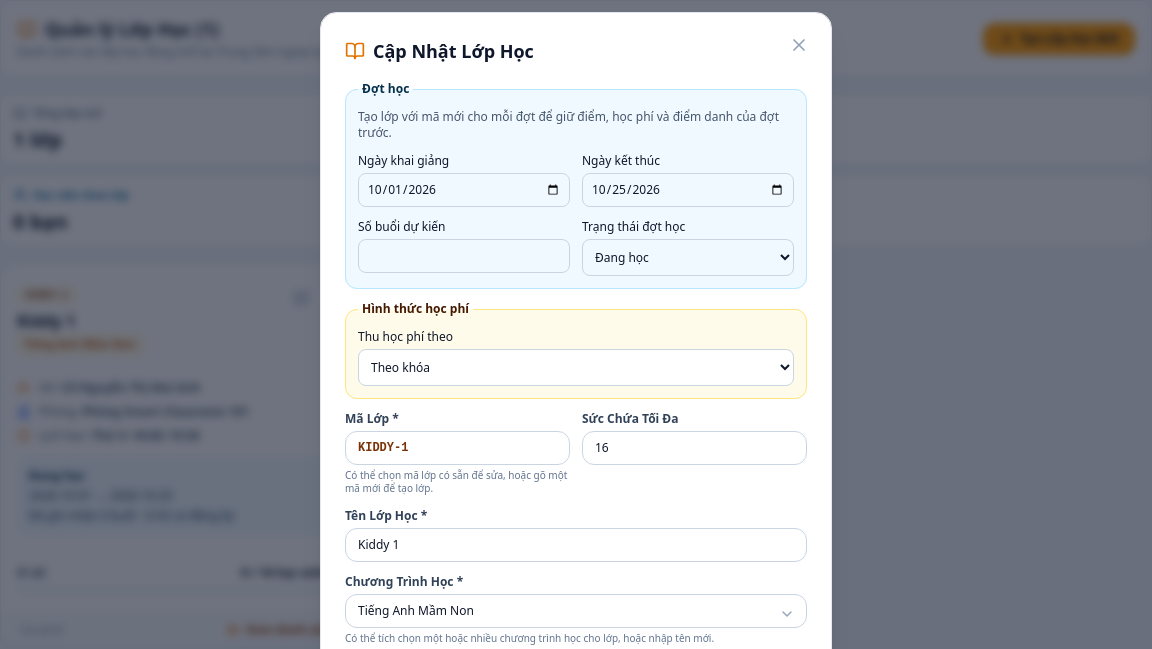
Test: rejects an invalid course period before changing class or recurring schedule
The image size is (1152, 649).
Type "2026-09-01" into the date field labelled "Ngày kết thúc" at (688, 190), box [582, 173, 794, 207]
(page scrolled)
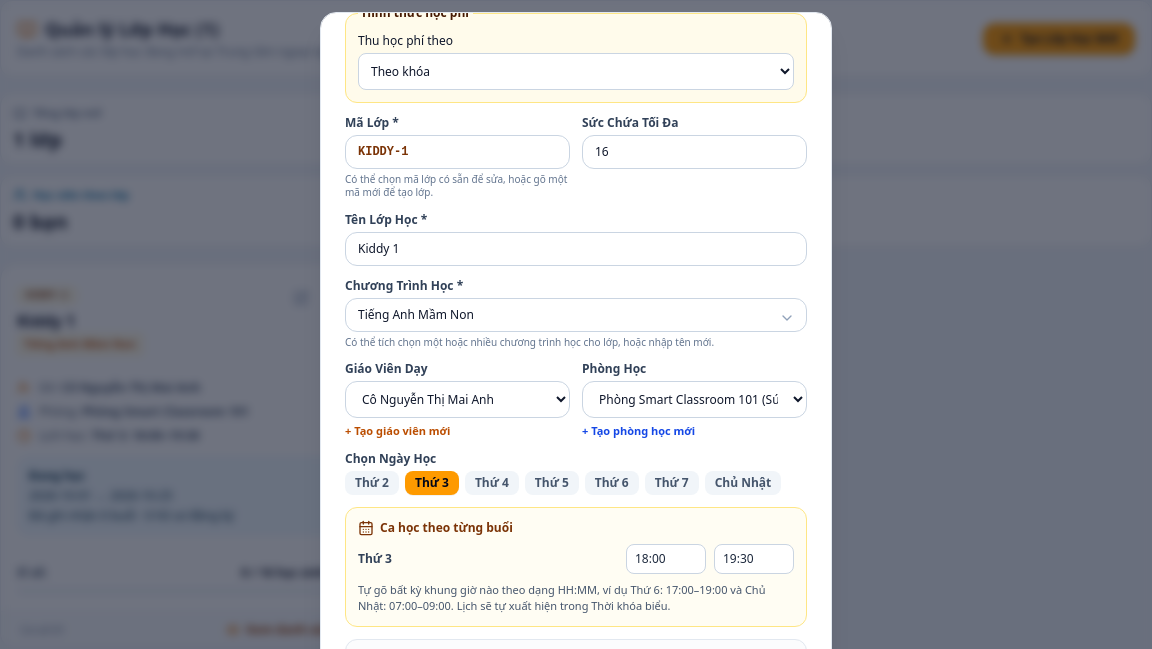
Submit the form
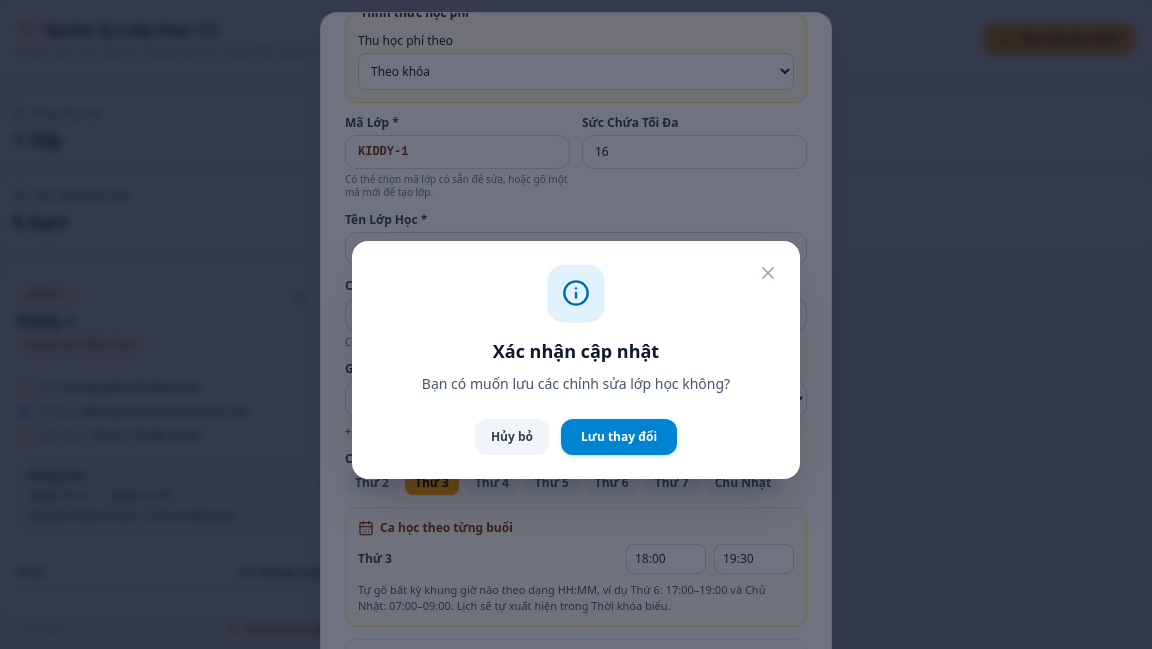
Click the button "Lưu thay đổi" at (619, 437), box [561, 419, 677, 455]
(page scrolled)
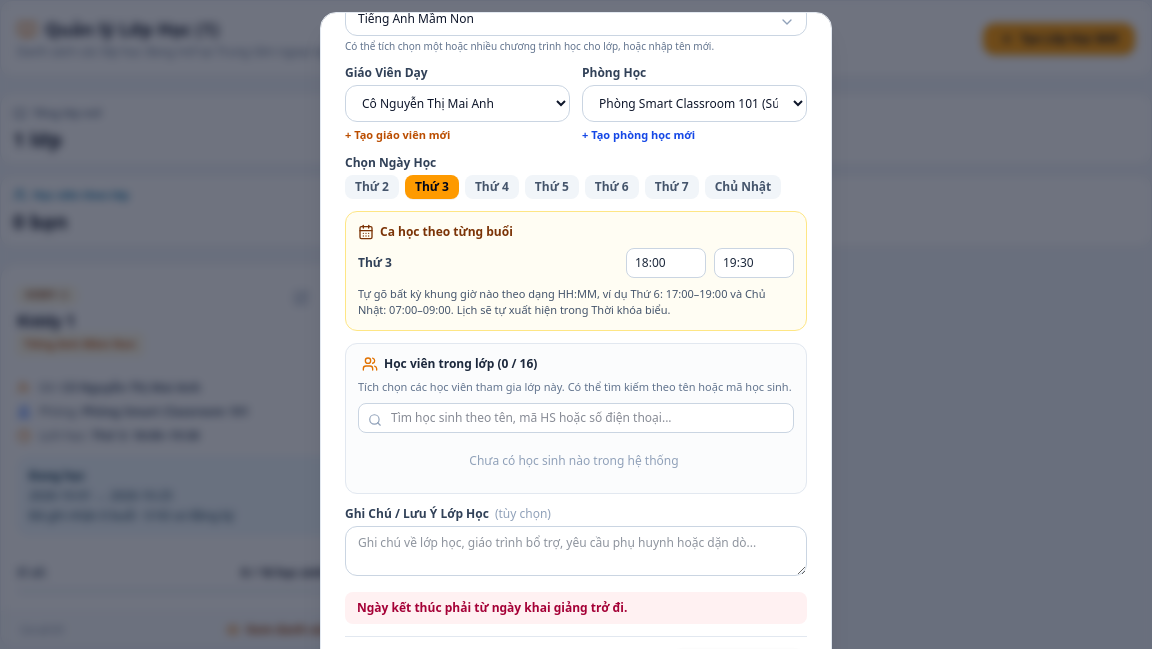
Result: the message shows "Ngày kết thúc" at [357, 599, 627, 616]
